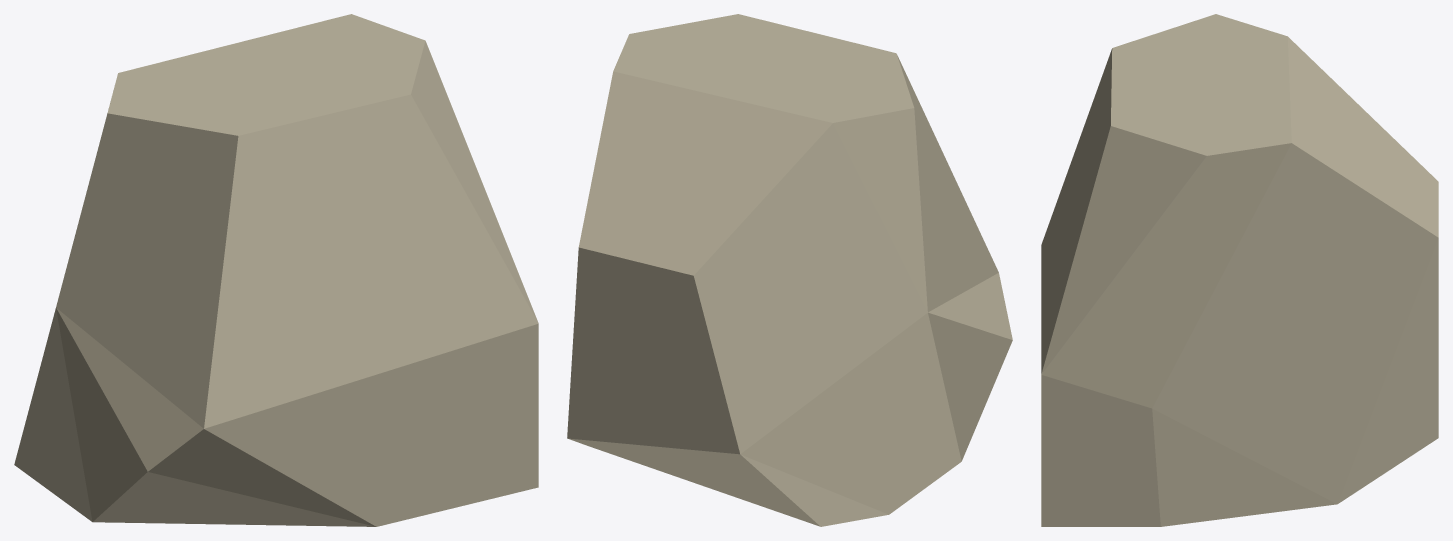
Rendered from object_landscape_stone_small.glb.
3 renders of one model, left to right at view 1: azimuth 30°, elevation 25°; view 2: azimuth 150°, elevation 25°; view 3: azimuth 270°, elevation 25°, orthographic. The views are drawn at different scales.
Visible parts, largest first — view 1: object_landscape_stone_small; view 2: object_landscape_stone_small; view 3: object_landscape_stone_small.
Boxes of the visible parts, x1=… form: object_landscape_stone_small: x1=14, y1=14, x2=538, y2=526; object_landscape_stone_small: x1=567, y1=14, x2=1012, y2=526; object_landscape_stone_small: x1=1041, y1=14, x2=1438, y2=526.
Bounding box in the file's own units: 0.1338 × 0.1338 × 0.1338.
